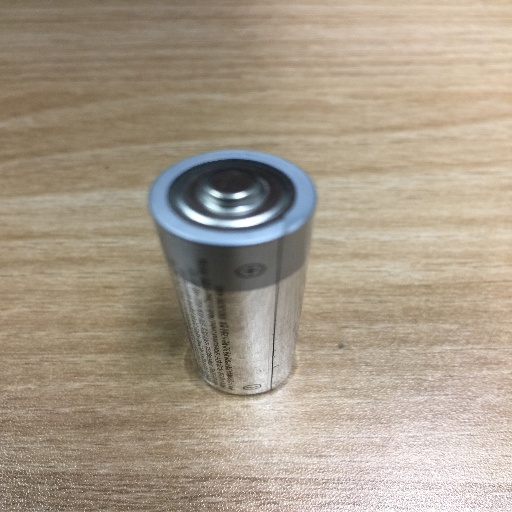Battery_0: (142, 128, 327, 400)
